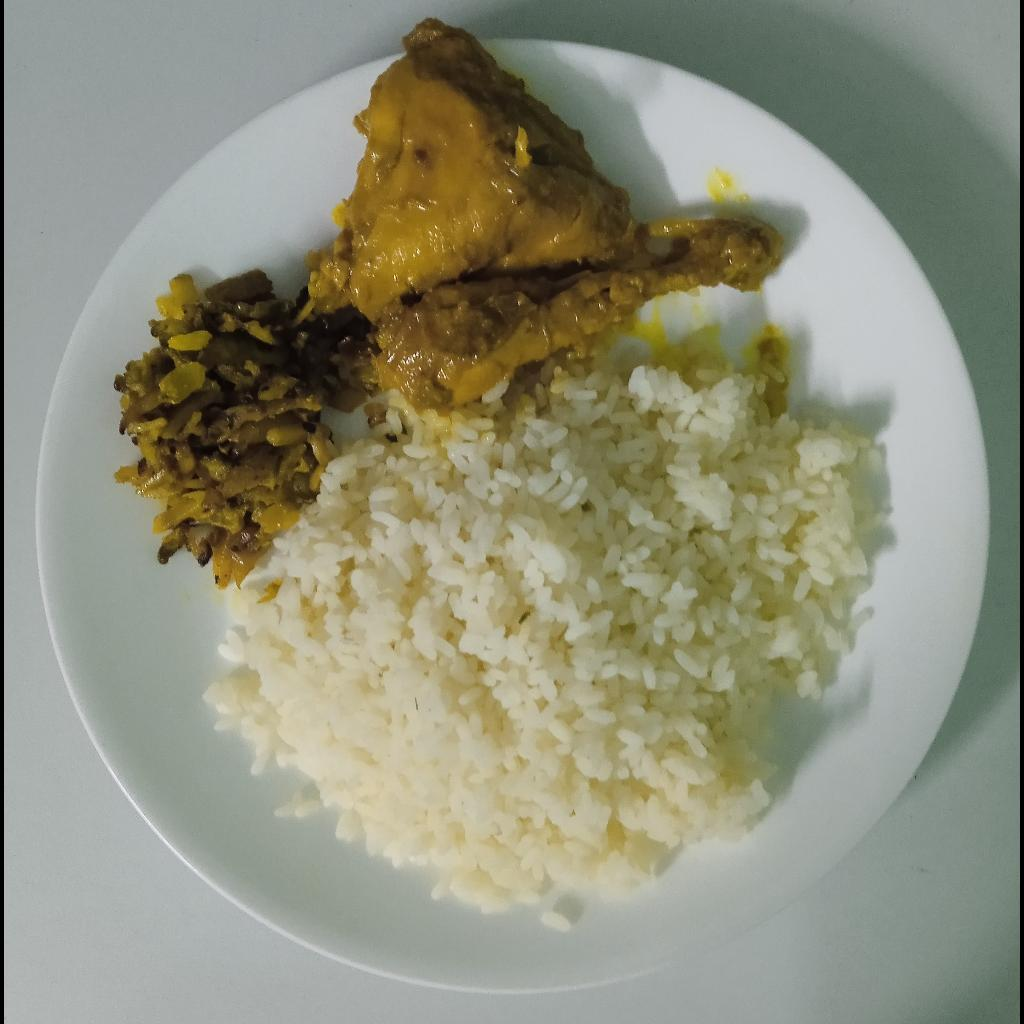chicken: (307, 17, 786, 411)
dundol: (108, 270, 380, 589)
rice: (204, 343, 887, 932)
